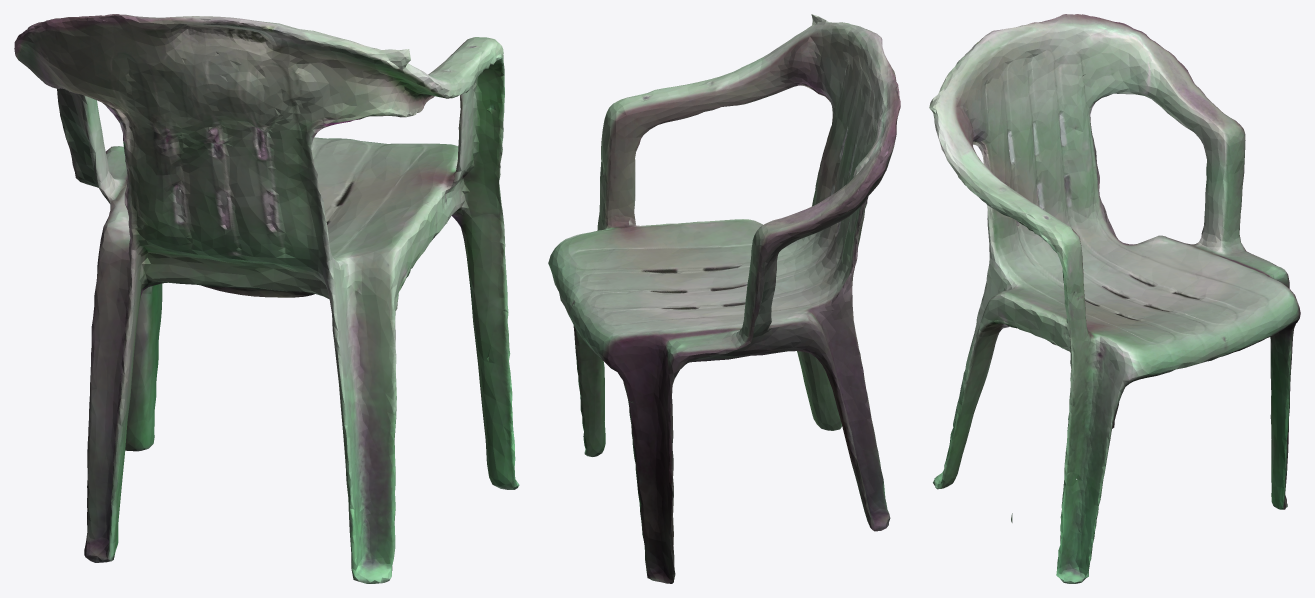
File: 1774183785_1green-chair.glb
The picture shows the model from 3 angles, left to right: view 1: azimuth 30°, elevation 25°; view 2: azimuth 150°, elevation 25°; view 3: azimuth 270°, elevation 25°; orthographic projection. The views are drawn at different scales.
Parts seen in each view (by area): view 1: Mesh_0.002; view 2: Mesh_0.002; view 3: Mesh_0.002.
Part boxes in pixels (x1,y1,x2,y2): Mesh_0.002: (14,14,519,583); Mesh_0.002: (548,14,900,583); Mesh_0.002: (929,14,1300,583).
Size of the model in its own units: 0.5355 by 0.6799 by 0.5213.
Materials: 1 (1 with a texture image).
